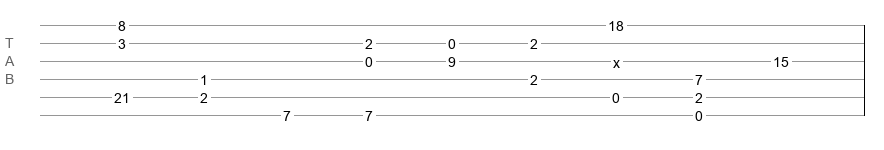0: (365, 54, 373, 64), (448, 36, 456, 46), (612, 90, 620, 100), (695, 108, 703, 118)
1: (200, 72, 208, 82)
15: (773, 54, 789, 64)
18: (608, 18, 624, 28)
2: (200, 90, 208, 100), (365, 36, 373, 46), (530, 36, 538, 46), (530, 72, 538, 82), (695, 90, 703, 100)
21: (114, 90, 130, 100)
3: (118, 36, 126, 46)
7: (283, 108, 291, 118), (365, 108, 373, 118), (695, 72, 703, 82)
8: (118, 18, 126, 28)
9: (448, 54, 456, 64)
x: (613, 55, 620, 63)
